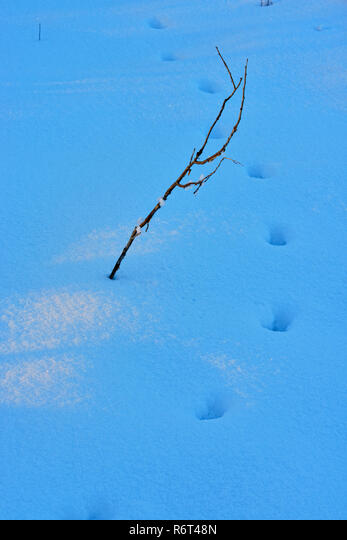fox: (196, 400, 232, 428), (264, 309, 293, 340), (265, 228, 289, 251)
